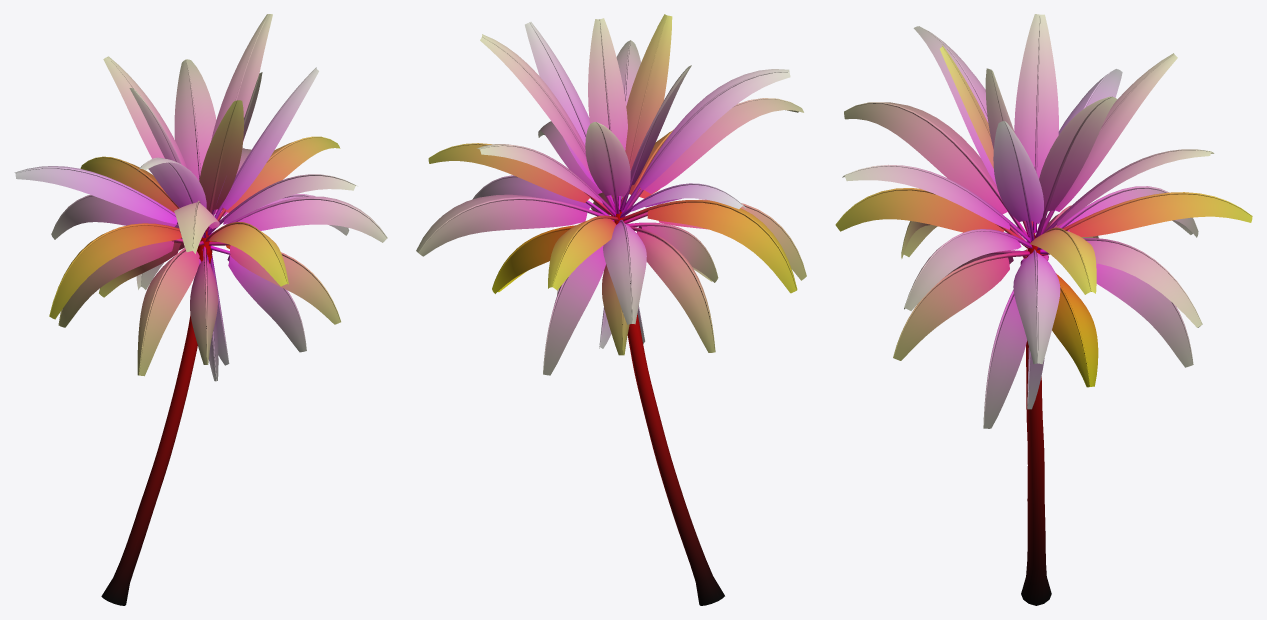
Rendered from palm_coconut_c.glb.
3 renders of one model, left to right at view 1: azimuth 30°, elevation 25°; view 2: azimuth 150°, elevation 25°; view 3: azimuth 270°, elevation 25°, orthographic. The views are drawn at different scales.
Visible parts, largest first — view 1: palm_coconut_c; view 2: palm_coconut_c; view 3: palm_coconut_c.
Boxes of the visible parts, box(x1,y1,x2,y2) form: palm_coconut_c: box(14, 14, 387, 605); palm_coconut_c: box(416, 14, 806, 605); palm_coconut_c: box(835, 14, 1252, 605).
Size of what is drawn, in the model's own units: 9.26 by 14.43 by 8.94.
